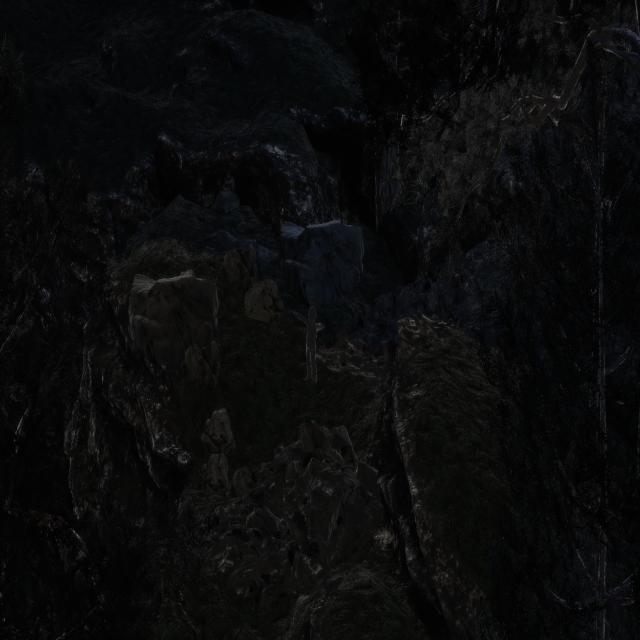Human: (291, 294, 328, 399)
